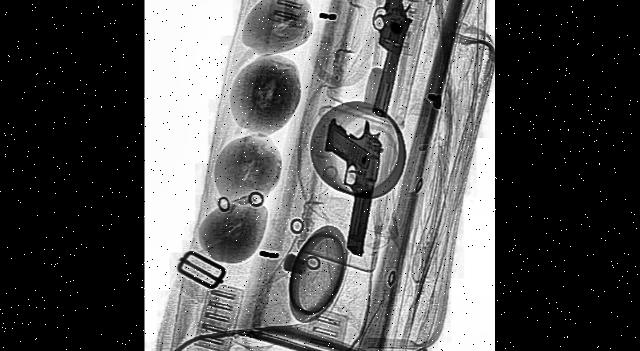Gun: (309, 89, 384, 258), (339, 0, 414, 122)
